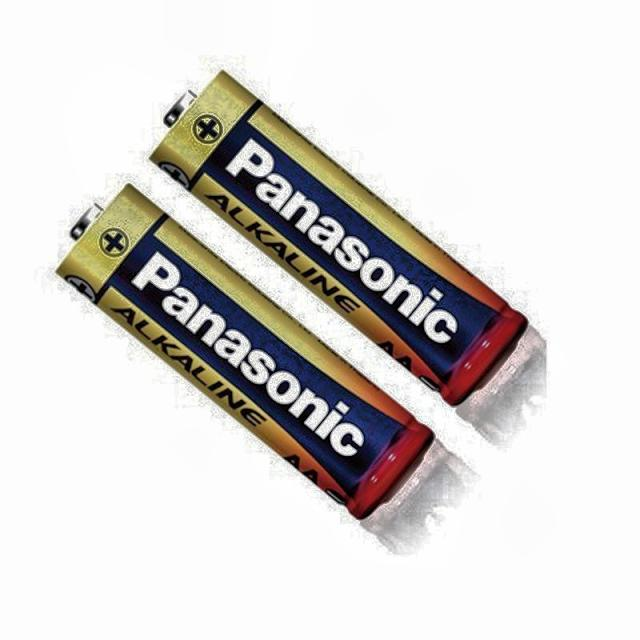Non-Valuable Waste - Batteries: (151, 71, 526, 404), (58, 185, 432, 518)
